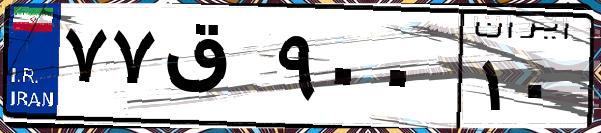0: (385, 28, 445, 110), (330, 28, 385, 110), (525, 38, 570, 115)
1: (475, 38, 525, 113)
7: (57, 26, 110, 100), (110, 28, 158, 98)
9: (270, 28, 330, 110)
ق: (158, 20, 270, 120)
